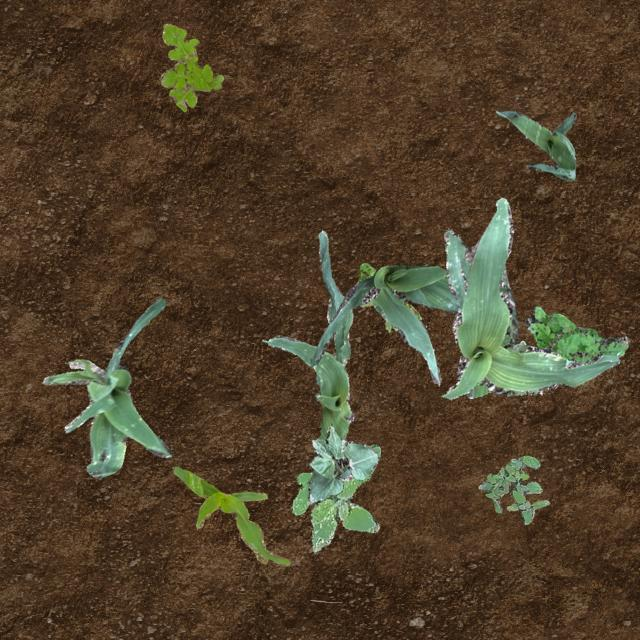crop: (441, 196, 619, 398), (41, 296, 170, 478), (266, 230, 352, 480), (310, 264, 458, 384), (172, 466, 288, 564), (464, 266, 518, 398), (306, 422, 378, 503), (494, 110, 576, 180)
weed: (290, 444, 380, 552), (524, 306, 628, 362), (160, 22, 222, 110), (478, 454, 548, 524), (357, 262, 420, 331), (516, 340, 524, 344)
